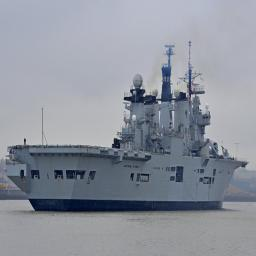Portanaves: (5, 37, 251, 216)
